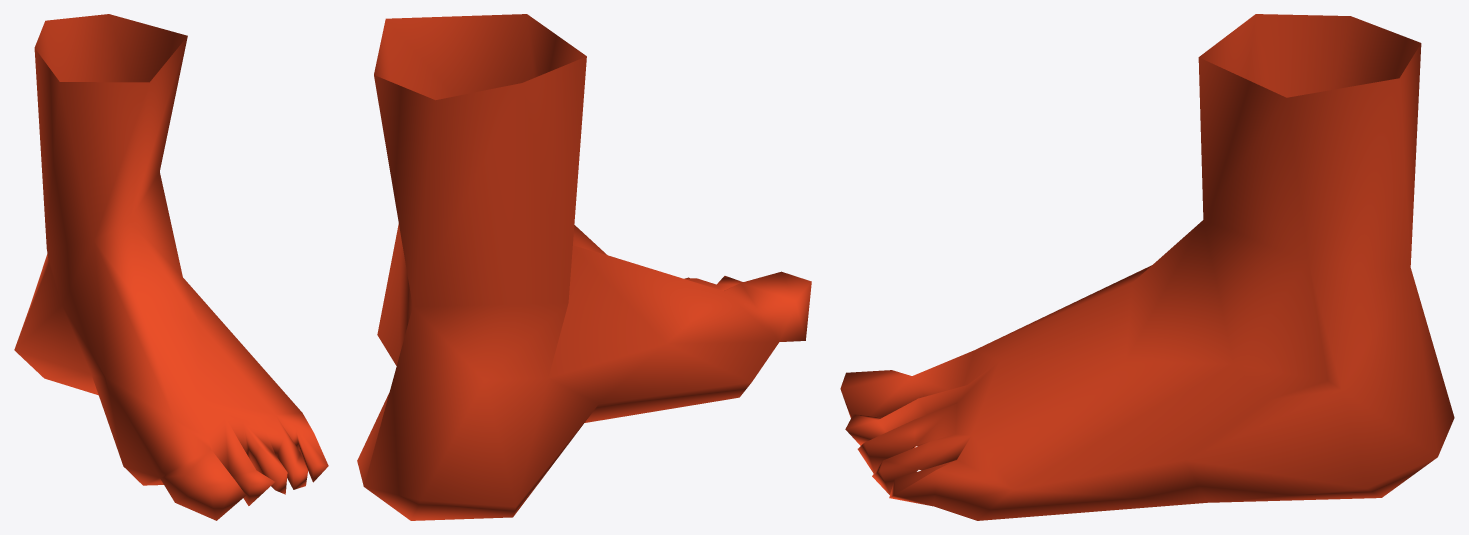
Rendered from human-foot-lowres.glb.
3 views of the same model, side by side, from view 1: azimuth 30°, elevation 25°; view 2: azimuth 150°, elevation 25°; view 3: azimuth 270°, elevation 25° (orthographic). The views are drawn at different scales.
Visible parts, largest first — view 1: Cube;lowres; view 2: Cube;lowres; view 3: Cube;lowres.
Boxes of the visible parts, bbox=[...] form: Cube;lowres: bbox=[14, 14, 328, 520]; Cube;lowres: bbox=[357, 14, 811, 520]; Cube;lowres: bbox=[840, 14, 1454, 520].
Size of the model in its own units: 0.4139 by 0.7518 by 0.9584.
